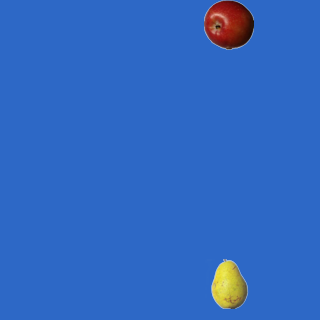Apple Braeburn: (203, 0, 253, 49)
Pear Monster: (204, 258, 254, 308)
